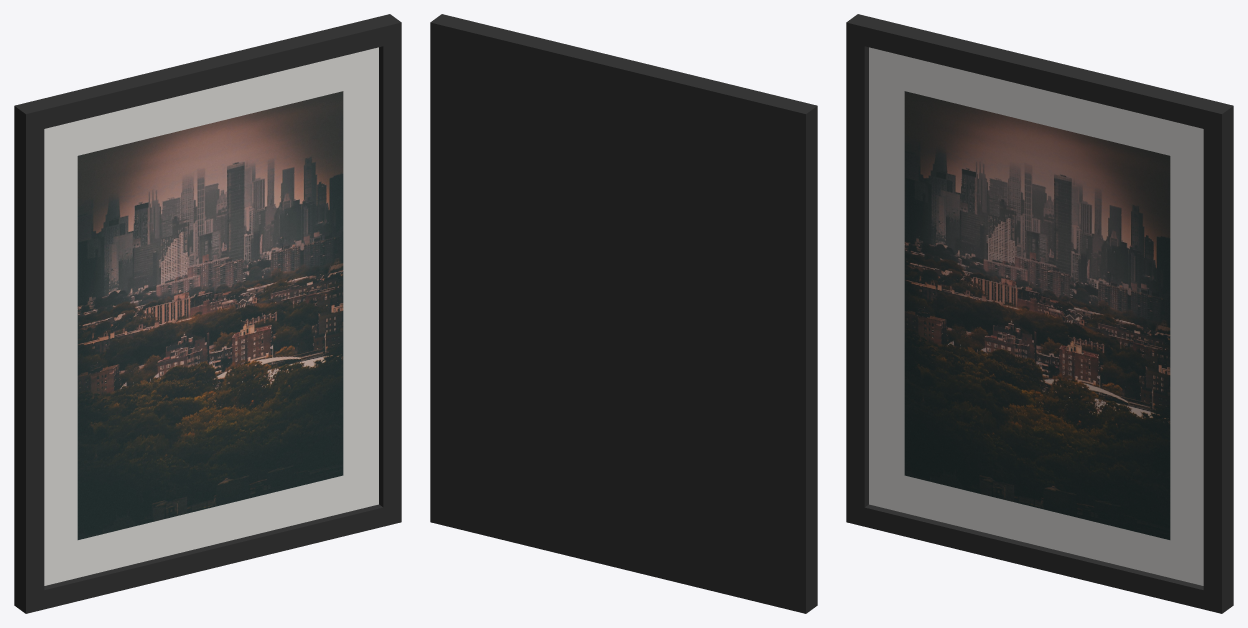
Rendered from skyline-dis-40.gltf.
The picture shows the model from 3 angles, left to right: view 1: azimuth 30°, elevation 25°; view 2: azimuth 150°, elevation 25°; view 3: azimuth 330°, elevation 25°; orthographic projection.
Parts seen in each view (by area): view 1: tavla; view 2: tavla; view 3: tavla.
Part boxes in pixels (<box>): tavla: <box>14,14,401,613</box>; tavla: <box>430,14,817,613</box>; tavla: <box>846,14,1233,613</box>.
Size of the model in its own units: 0.4093 by 0.52 by 0.022.
3 materials, 1 textured.
